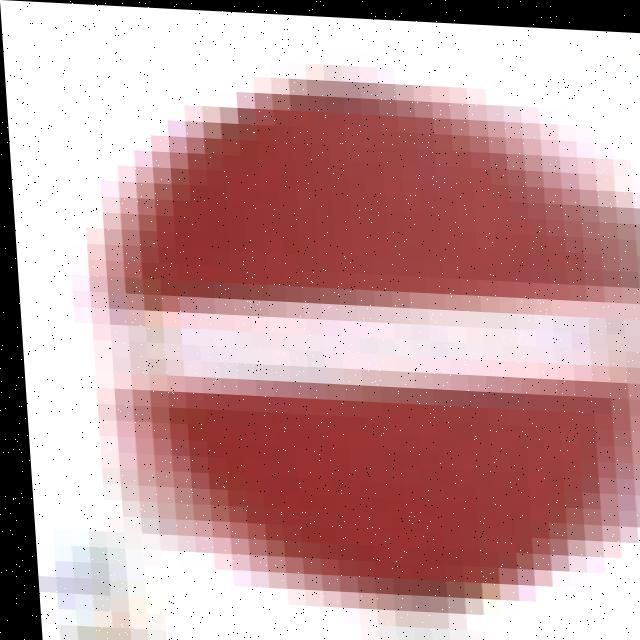road_rough: (73, 36, 640, 625)
